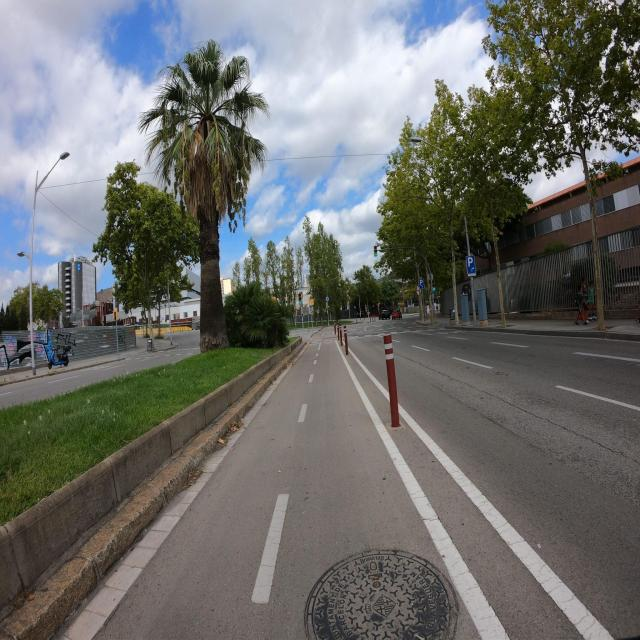bike: (42, 334, 70, 367)
car: (17, 340, 46, 362), (390, 308, 402, 320), (379, 308, 389, 320)
